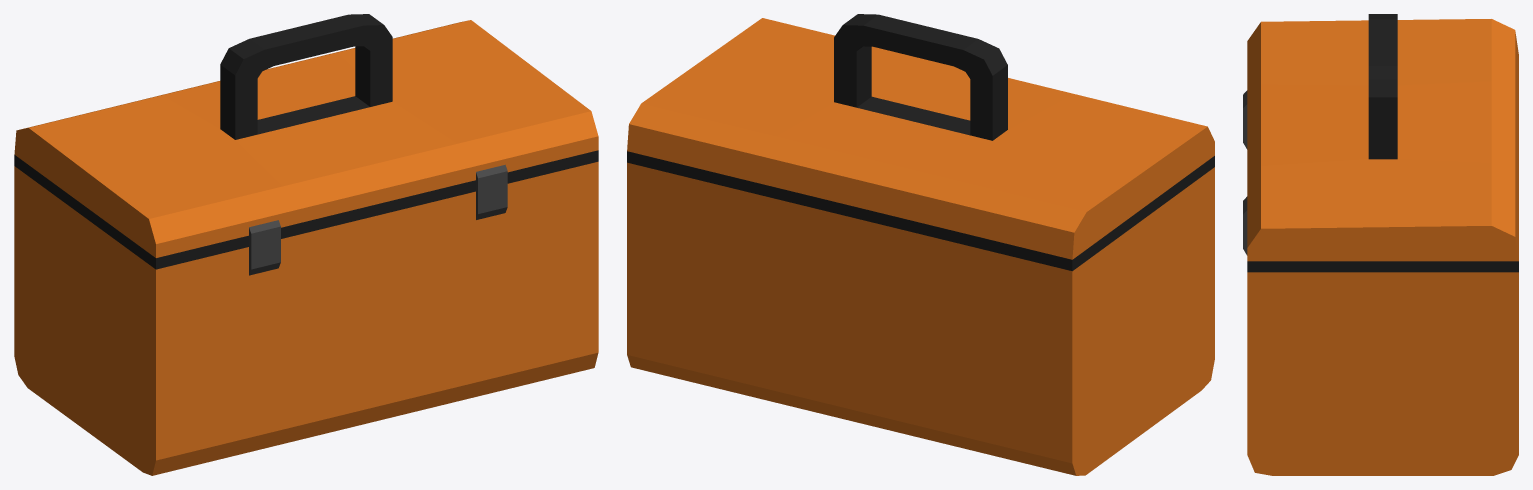
The model's file is Toolbox.fbx.
3 renders of one model, left to right at view 1: azimuth 30°, elevation 25°; view 2: azimuth 150°, elevation 25°; view 3: azimuth 270°, elevation 25°, orthographic. The views are drawn at different scales.
Parts seen in each view (by area): view 1: Cube; view 2: Cube; view 3: Cube.
Part boxes in pixels (box(x1,y1,x2,y2)): Cube: box(14, 14, 598, 475); Cube: box(627, 14, 1214, 475); Cube: box(1243, 14, 1518, 475).
Bounding box in the file's own units: 20 × 14.86 × 11.26.
